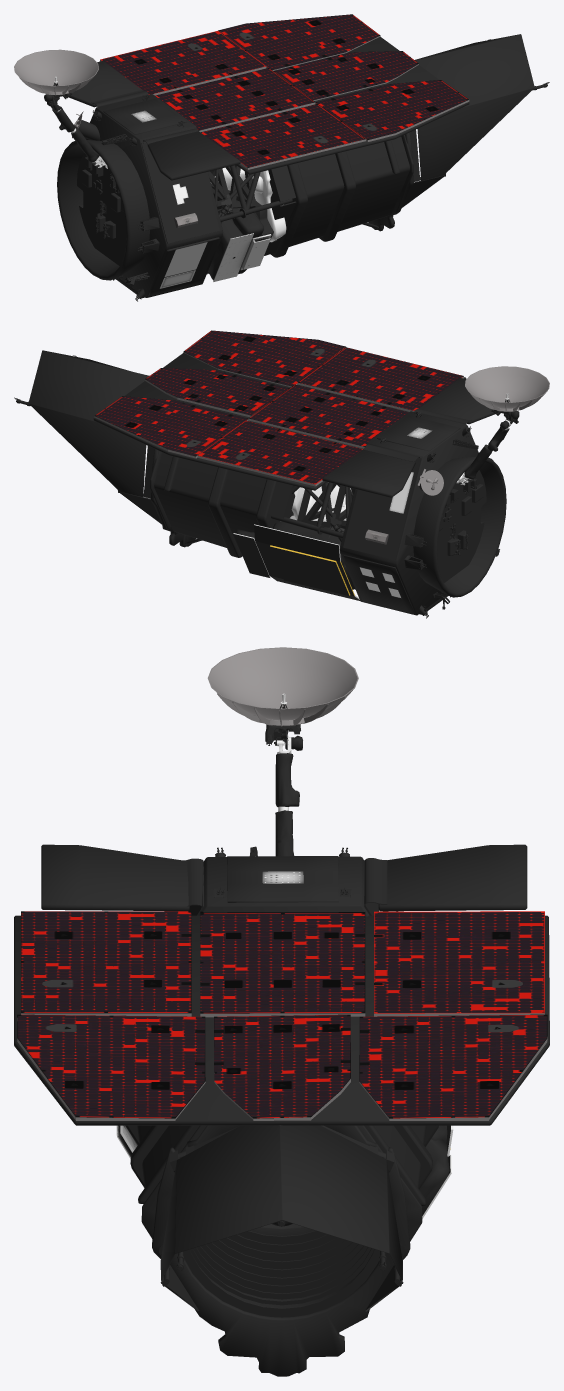
File: roman.gltf
3 views of the same model, one above another, from view 1: azimuth 30°, elevation 25°; view 2: azimuth 150°, elevation 25°; view 3: azimuth 270°, elevation 25° (orthographic). The views are drawn at different scales.
Visible parts, largest first — view 1: array, Cube.006, Cube.002, Cylinder.009, Cylinder.014, Cylinder.013, Cylinder.017, HGA_Head_pSphere4.002, Cylinder.015, Cylinder.008, Plane, Cube.004 (+13 smaller); view 2: array, Cube.002, Cube.006, Cylinder.009, Cylinder.014, Cylinder.013, Cube.005, Cylinder.017, HGA_Head_pSphere4.002, Plane, Cylinder.015, Cylinder.008 (+14 smaller); view 3: array, Cube.002, Cylinder.017, Tele_section_polySurface60790.003, Cylinder.006, Plane, HGA_Head_pSphere4.002, Cube.006, Cylinder.013, Cylinder.008, Cylinder.009, Comm_Sheild_hingecover2.001 (+6 smaller).
Boxes of the visible parts, x1=… form: array: x1=100, y1=14, x2=469, y2=169; Cube.006: x1=90, y1=98, x2=271, y2=298; Cube.002: x1=415, y1=34, x2=534, y2=180; Cylinder.009: x1=289, y1=136, x2=409, y2=246; Cylinder.014: x1=57, y1=140, x2=149, y2=280; Cylinder.013: x1=85, y1=94, x2=222, y2=297; Cylinder.017: x1=68, y1=61, x2=240, y2=180; HGA_Head_pSphere4.002: x1=14, y1=49, x2=98, y2=91; Cylinder.015: x1=77, y1=153, x2=126, y2=265; Cylinder.008: x1=270, y1=140, x2=399, y2=257; Plane: x1=99, y1=36, x2=469, y2=174; Cube.004: x1=264, y1=165, x2=295, y2=255; array: x1=94, y1=330, x2=463, y2=486; Cube.002: x1=28, y1=350, x2=149, y2=497; Cube.006: x1=343, y1=415, x2=478, y2=614; Cylinder.009: x1=154, y1=453, x2=266, y2=551; Cylinder.014: x1=413, y1=456, x2=506, y2=597; Cylinder.013: x1=340, y1=411, x2=478, y2=615; Cube.005: x1=254, y1=524, x2=359, y2=600; Cylinder.017: x1=322, y1=378, x2=495, y2=497; HGA_Head_pSphere4.002: x1=465, y1=366, x2=549, y2=408; Plane: x1=93, y1=353, x2=466, y2=490; Cylinder.015: x1=437, y1=470, x2=486, y2=582; Cylinder.008: x1=164, y1=456, x2=280, y2=557; array: x1=17, y1=911, x2=547, y2=1120; Cube.002: x1=160, y1=1125, x2=402, y2=1281; Cylinder.017: x1=41, y1=844, x2=527, y2=911; Tele_section_polySurface60790.003: x1=152, y1=1125, x2=410, y2=1376; Cylinder.006: x1=183, y1=1230, x2=379, y2=1317; Plane: x1=14, y1=915, x2=549, y2=1125; HGA_Head_pSphere4.002: x1=207, y1=647, x2=358, y2=720; Cube.006: x1=116, y1=856, x2=397, y2=1158; Cylinder.013: x1=198, y1=856, x2=369, y2=916; Cylinder.008: x1=125, y1=1125, x2=438, y2=1205; Cylinder.009: x1=137, y1=1125, x2=426, y2=1188; Comm_Sheild_hingecover2.001: x1=183, y1=858, x2=387, y2=910.
Size of the model in its own units: 13.41 by 6.11 by 7.01.
Materials: 13 (4 with a texture image).
